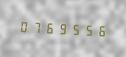five: (69, 20, 81, 37), (82, 21, 94, 38)
nine: (56, 19, 68, 37)
seven: (30, 18, 42, 35)
six: (43, 18, 55, 36), (95, 21, 107, 39)
zero: (17, 17, 29, 35)
